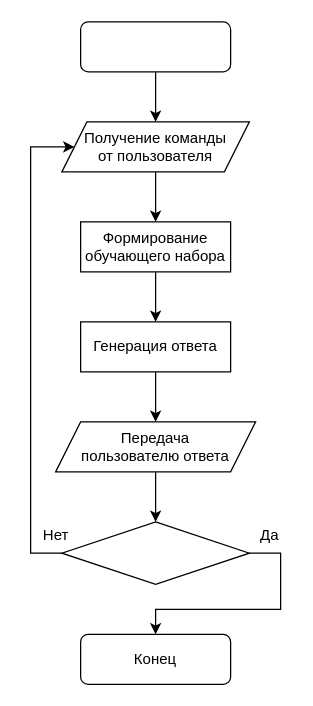
Image size: 313x706. Some labels were removed from this diagram. Each missing label, with the centre of its shape:
Закрыть программу: point 155,552
Начало: point 155,46
